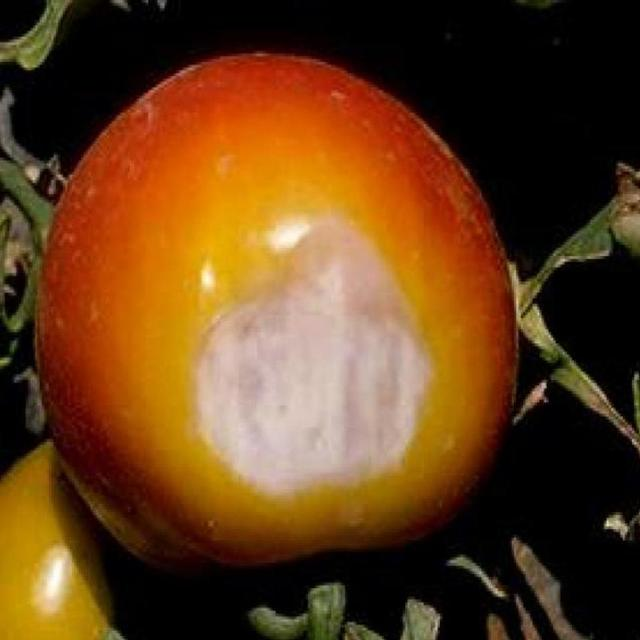Sunscald Fruit: (93, 124, 303, 342)
